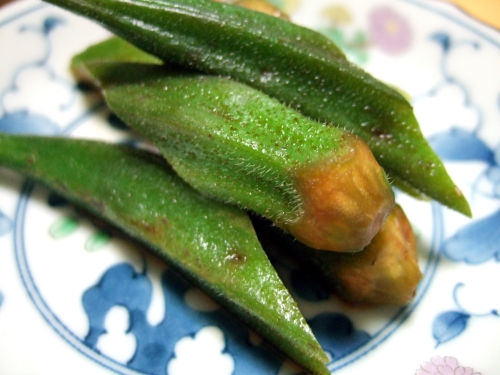okra: (37, 0, 479, 219), (0, 133, 330, 374), (98, 66, 391, 259), (247, 203, 414, 298)
